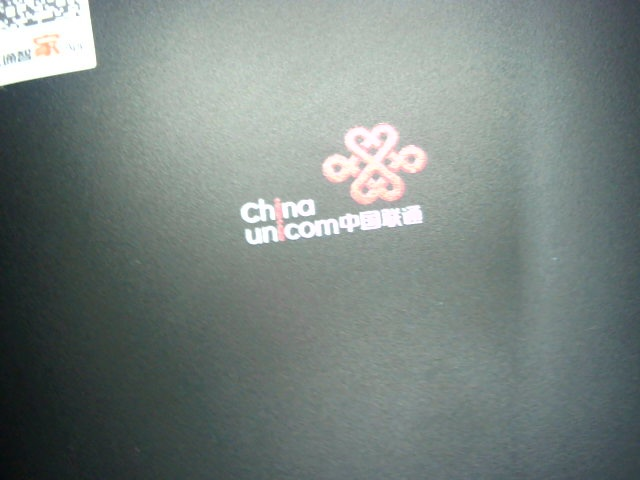AC_ChinaUnicom: (236, 118, 432, 245)
